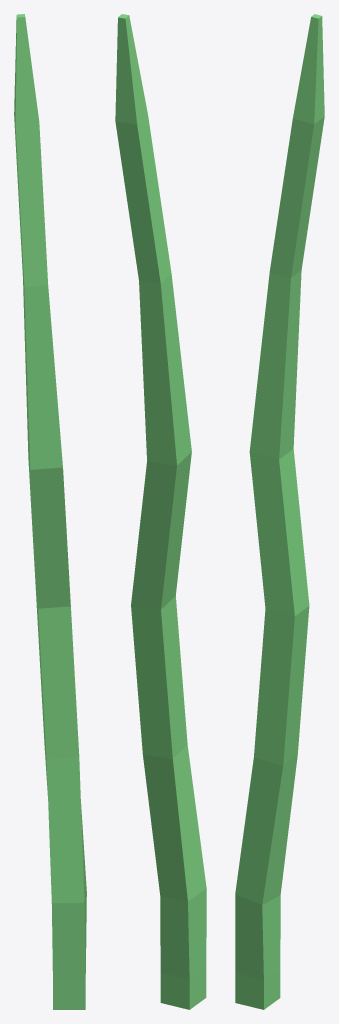
File: seaweed.fbx
The picture shows the model from 3 angles, left to right: view 1: azimuth 90°, elevation 25°; view 2: azimuth 150°, elevation 25°; view 3: azimuth 330°, elevation 25°; orthographic projection. The views are drawn at different scales.
Parts seen in each view (by area): view 1: Cube; view 2: Cube; view 3: Cube.
Boxes of the visible parts, x1=… form: Cube: x1=14, y1=14, x2=86, y2=1009; Cube: x1=115, y1=14, x2=206, y2=1009; Cube: x1=235, y1=14, x2=324, y2=1009.
Bounding box in the file's own units: 3.01 × 50.39 × 3.42.
